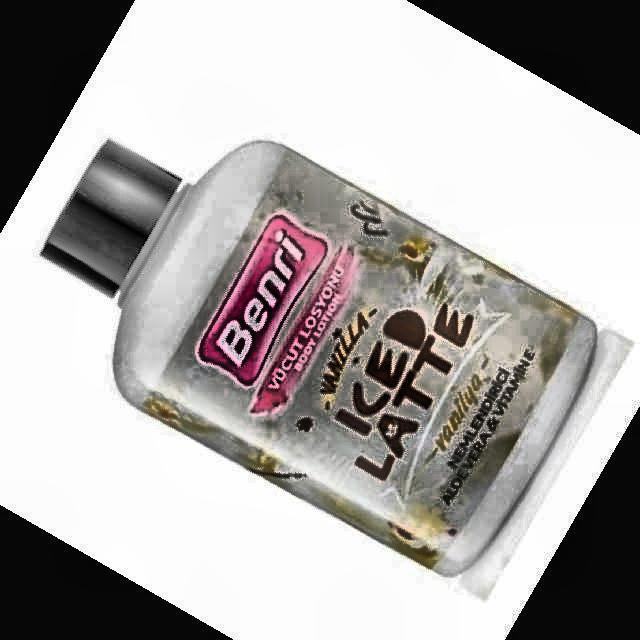plastic: (44, 141, 596, 574)
